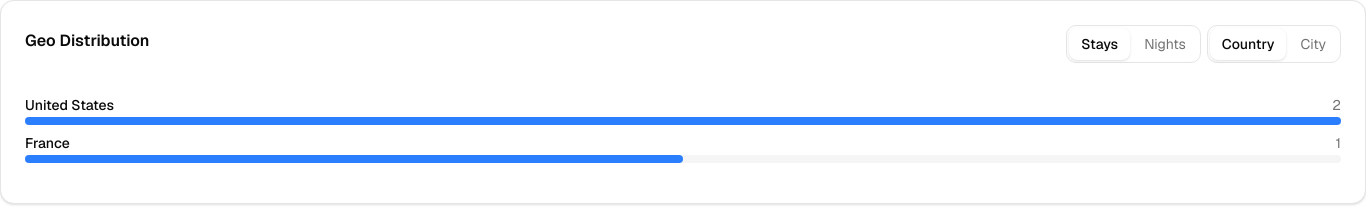
Test: GeoDistribution › Nights mode sums numNights per country
Click the button "Nights": (1165, 44) top-left (1132, 28), bottom-right (1198, 60)
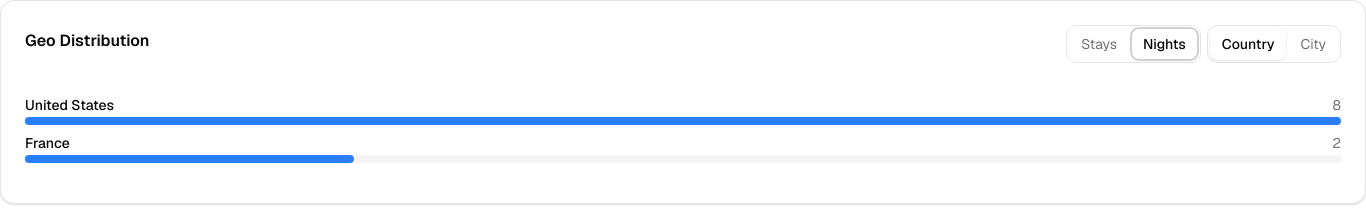
Check: the element with test id "geo-row-US" shows "8", box top-left (1332, 96), bottom-right (1341, 114)
Check: the element with test id "geo-row-FR" shows "2", box top-left (1332, 134), bottom-right (1341, 152)
